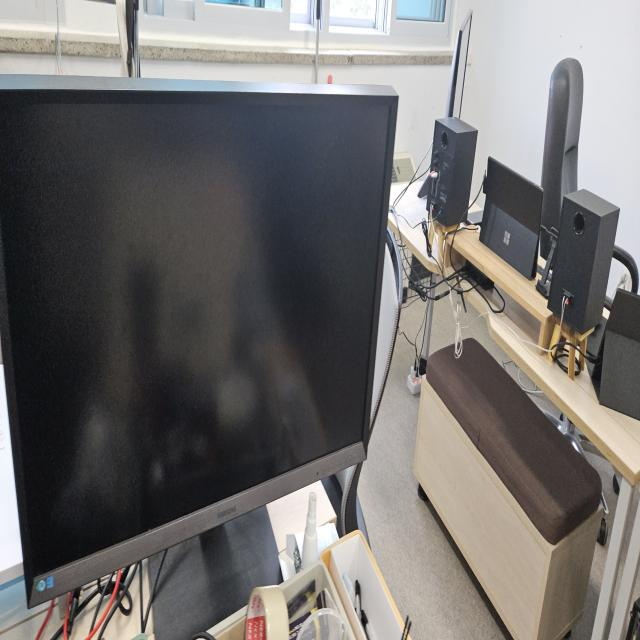Monitor: (2, 71, 400, 608)
